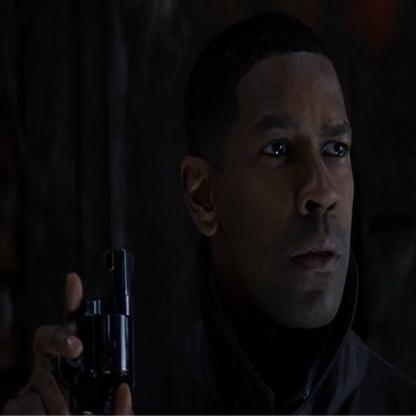gun: (61, 235, 147, 392)
